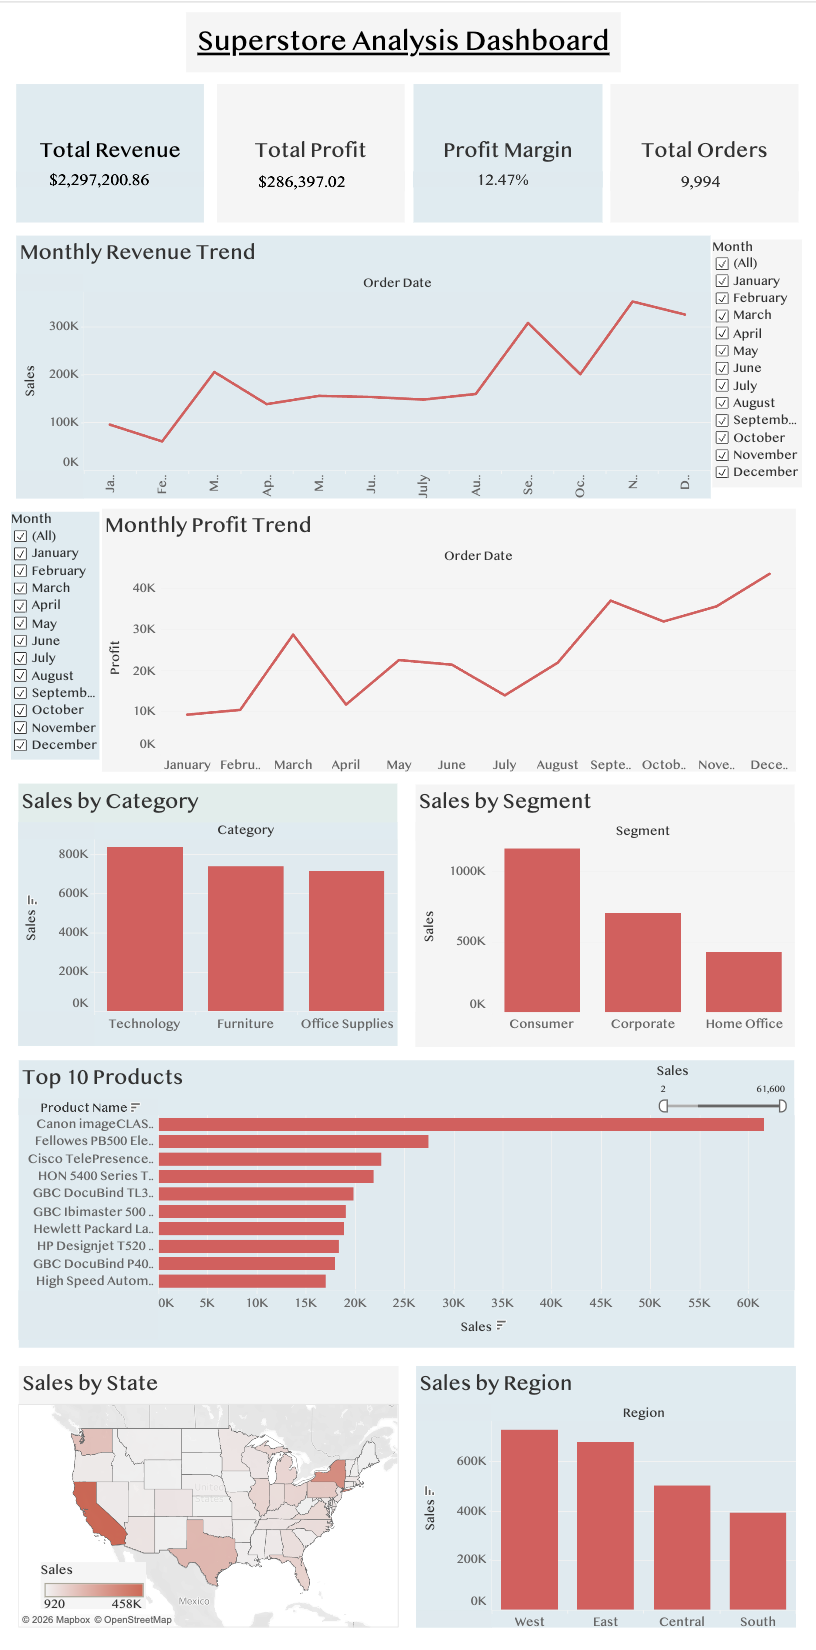

The page's visual inventory and layout, read from the dashboard file:
{"tool":"tableau","page":{"name":"Dashboard 1","canvas":[920,2360],"ordinal":0},"visuals":[{"type":"text","box":[209,10,499,70]},{"type":"worksheet","title":"Total Revenue","mark":"Text","box":[9,88,226,169]},{"type":"worksheet","title":"Total Profit","mark":"Automatic","box":[239,88,226,169]},{"type":"worksheet","title":"Profit Margin","mark":"Automatic","box":[465,88,227,169]},{"type":"worksheet","title":"Total Orders","mark":"Automatic","box":[691,88,226,169]},{"type":"worksheet","title":"Monthly Revenue","mark":"Line","rows":["Sales"],"cols":["Order Date"],"box":[14,267,797,302]},{"type":"filter","title":"Monthly Revenue","param":"[federated.187vxdt06v443a13pa9xn12fygm7].[mn:Order Date:ok]","box":[813,271,103,285]},{"type":"worksheet","title":"Monthly Profit","mark":"Line","rows":["Profit"],"cols":["Order Date"],"box":[112,580,797,302]},{"type":"filter","title":"Monthly Profit","param":"[federated.187vxdt06v443a13pa9xn12fygm7].[mn:Order Date:ok]","box":[8,584,102,285]},{"type":"worksheet","title":"Sales by Category","mark":"Bar","rows":["Sales"],"cols":["Category"],"box":[16,896,436,301]},{"type":"worksheet","title":"Sales by Segent","mark":"Bar","rows":["Sales"],"cols":["Segment"],"box":[472,897,436,301]},{"type":"worksheet","title":"Top 10 Products","mark":"Automatic","rows":["Product Name"],"cols":["Sales"],"box":[17,1213,890,331]},{"type":"filter","title":"Top 10 Products","param":"[federated.187vxdt06v443a13pa9xn12fygm7].[sum:Sales:qk]","box":[749,1217,152,57]},{"type":"worksheet","title":"Sales by State","mark":"Automatic","box":[17,1564,436,301]},{"type":"worksheet","title":"Sales by Region","mark":"Automatic","rows":["Sales"],"cols":["Region"],"box":[473,1564,436,301]},{"type":"legend","title":"Sales by State","param":"[federated.187vxdt06v443a13pa9xn12fygm7].[sum:Sales:qk]","box":[42,1789,121,55]}]}

Visuals, with their boxes on the page's 920x2360 design canvas (x1, y1, x2, y2). These are canvas units, not pixel positions in the 816x1650 screenshot, which may show the page scaled, cropped or inside an application window:
text: x1=209, y1=10, x2=708, y2=80
"Total Revenue" worksheet (Text marks): x1=9, y1=88, x2=235, y2=257
"Total Profit" worksheet: x1=239, y1=88, x2=465, y2=257
"Profit Margin" worksheet: x1=465, y1=88, x2=692, y2=257
"Total Orders" worksheet: x1=691, y1=88, x2=917, y2=257
"Monthly Revenue" worksheet (Line marks): x1=14, y1=267, x2=811, y2=569
"Monthly Revenue" filter: x1=813, y1=271, x2=916, y2=556
"Monthly Profit" worksheet (Line marks): x1=112, y1=580, x2=909, y2=882
"Monthly Profit" filter: x1=8, y1=584, x2=110, y2=869
"Sales by Category" worksheet (Bar marks): x1=16, y1=896, x2=452, y2=1197
"Sales by Segent" worksheet (Bar marks): x1=472, y1=897, x2=908, y2=1198
"Top 10 Products" worksheet: x1=17, y1=1213, x2=907, y2=1544
"Top 10 Products" filter: x1=749, y1=1217, x2=901, y2=1274
"Sales by State" worksheet: x1=17, y1=1564, x2=453, y2=1865
"Sales by Region" worksheet: x1=473, y1=1564, x2=909, y2=1865
"Sales by State" legend: x1=42, y1=1789, x2=163, y2=1844
